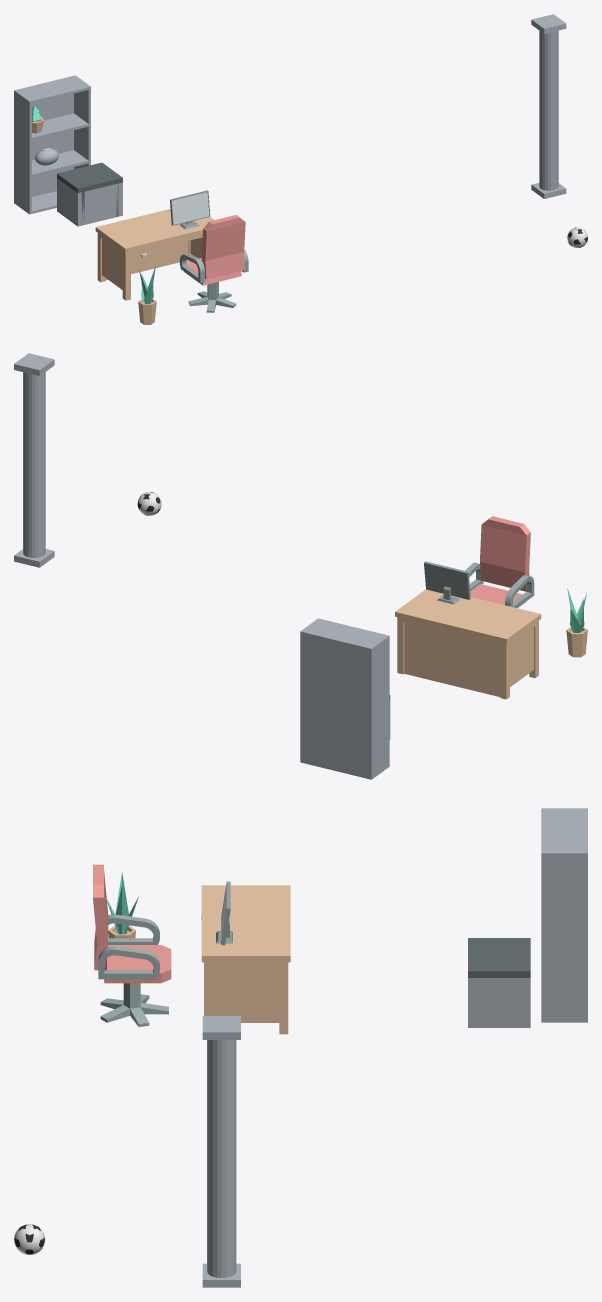
The picture shows the model from 3 angles, top to bottom: view 1: azimuth 30°, elevation 25°; view 2: azimuth 150°, elevation 25°; view 3: azimuth 270°, elevation 25°; orthographic projection. The views are drawn at different scales.
Parts seen in each view (by area): view 1: desk_blue__desk(Clone), deskchair_black__chair, column_cyan__column_cyan shaft, crate_red__crate_red shell, shelf_orange__shelf_orange back, shelf_orange__shelf_orange side_l, crate_red__crate_red lid, monitor_gray__computerScreen(Clone), shelf_orange__shelf_orange side_r, shelf_orange__shelf_orange board3, shelf_orange__shelf_orange board2, shelf_orange__shelf_orange board1 (+3 smaller); view 2: desk_blue__desk(Clone), shelf_orange__shelf_orange back, deskchair_black__chair, column_cyan__column_cyan shaft, shelf_orange__shelf_orange side_l, monitor_gray__computerScreen(Clone), shelf_orange__shelf_orange board3, column_cyan__column_cyan capital; view 3: desk_blue__desk(Clone), shelf_orange__shelf_orange side_r, column_cyan__column_cyan shaft, deskchair_black__chair, crate_red__crate_red shell, crate_red__crate_red lid, shelf_orange__shelf_orange board3, deskchair_black__chairDesk(Clone), column_cyan__column_cyan capital, soccer_white__soccer_white, monitor_gray__computerScreen(Clone).
Boxes of the visible parts, x1,y1,x2,y2 form: desk_blue__desk(Clone): (95, 209, 213, 300); deskchair_black__chair: (179, 215, 248, 285); column_cyan__column_cyan shaft: (539, 30, 558, 190); crate_red__crate_red shell: (57, 178, 122, 226); shelf_orange__shelf_orange back: (17, 76, 73, 196); shelf_orange__shelf_orange side_l: (14, 89, 31, 214); crate_red__crate_red lid: (57, 162, 122, 193); monitor_gray__computerScreen(Clone): (170, 190, 210, 229); shelf_orange__shelf_orange side_r: (73, 75, 90, 169); shelf_orange__shelf_orange board3: (17, 76, 88, 103); shelf_orange__shelf_orange board2: (32, 113, 88, 140); shelf_orange__shelf_orange board1: (32, 150, 88, 176); desk_blue__desk(Clone): (395, 589, 541, 699); shelf_orange__shelf_orange back: (303, 631, 369, 778); deskchair_black__chair: (465, 516, 534, 608); column_cyan__column_cyan shaft: (23, 372, 45, 557); shelf_orange__shelf_orange side_l: (368, 635, 389, 779); monitor_gray__computerScreen(Clone): (424, 561, 470, 604); shelf_orange__shelf_orange board3: (304, 619, 386, 647); column_cyan__column_cyan capital: (14, 353, 54, 376); desk_blue__desk(Clone): (201, 885, 290, 1034); shelf_orange__shelf_orange side_r: (541, 851, 587, 1022); column_cyan__column_cyan shaft: (207, 1040, 236, 1277); deskchair_black__chair: (93, 864, 171, 983); crate_red__crate_red shell: (468, 978, 530, 1027); crate_red__crate_red lid: (468, 938, 530, 977); shelf_orange__shelf_orange board3: (541, 810, 584, 851); deskchair_black__chairDesk(Clone): (100, 983, 168, 1026); column_cyan__column_cyan capital: (202, 1016, 240, 1039); soccer_white__soccer_white: (14, 1224, 45, 1255); monitor_gray__computerScreen(Clone): (216, 881, 232, 945).
Size of the model in its own units: 5.53 by 1.98 by 4.03.
